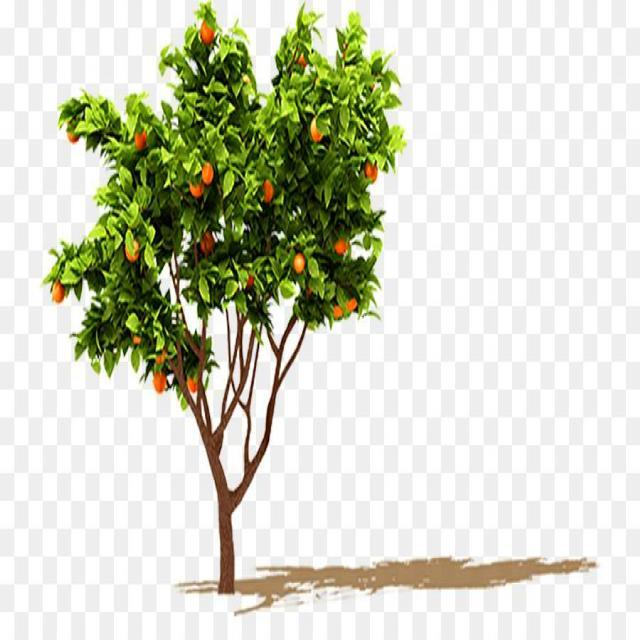Jeruk Sudah Matang: (150, 362, 171, 400), (362, 149, 380, 188), (198, 14, 216, 52), (48, 274, 68, 306), (132, 126, 151, 156), (291, 245, 306, 280), (307, 116, 324, 144), (200, 158, 215, 188), (260, 179, 275, 204)
